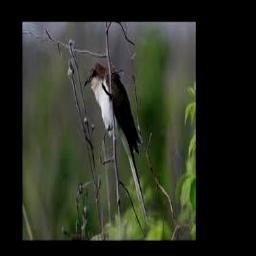Cuckoo: (84, 61, 148, 225)
